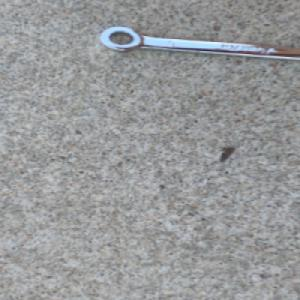Wrench: (97, 24, 300, 62)
